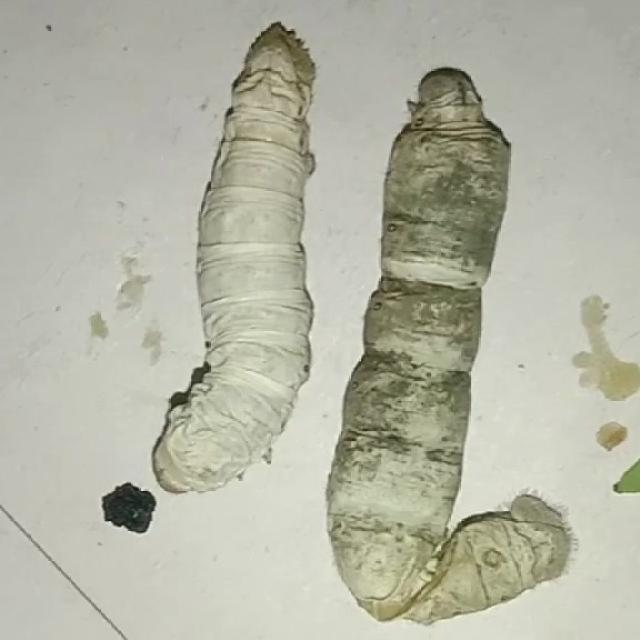Grasserie: (318, 31, 598, 626), (136, 1, 315, 510)
